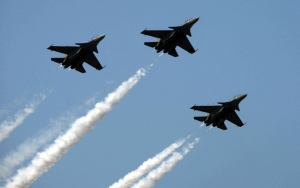flight: (140, 16, 201, 58), (47, 33, 106, 74), (189, 93, 250, 131)
